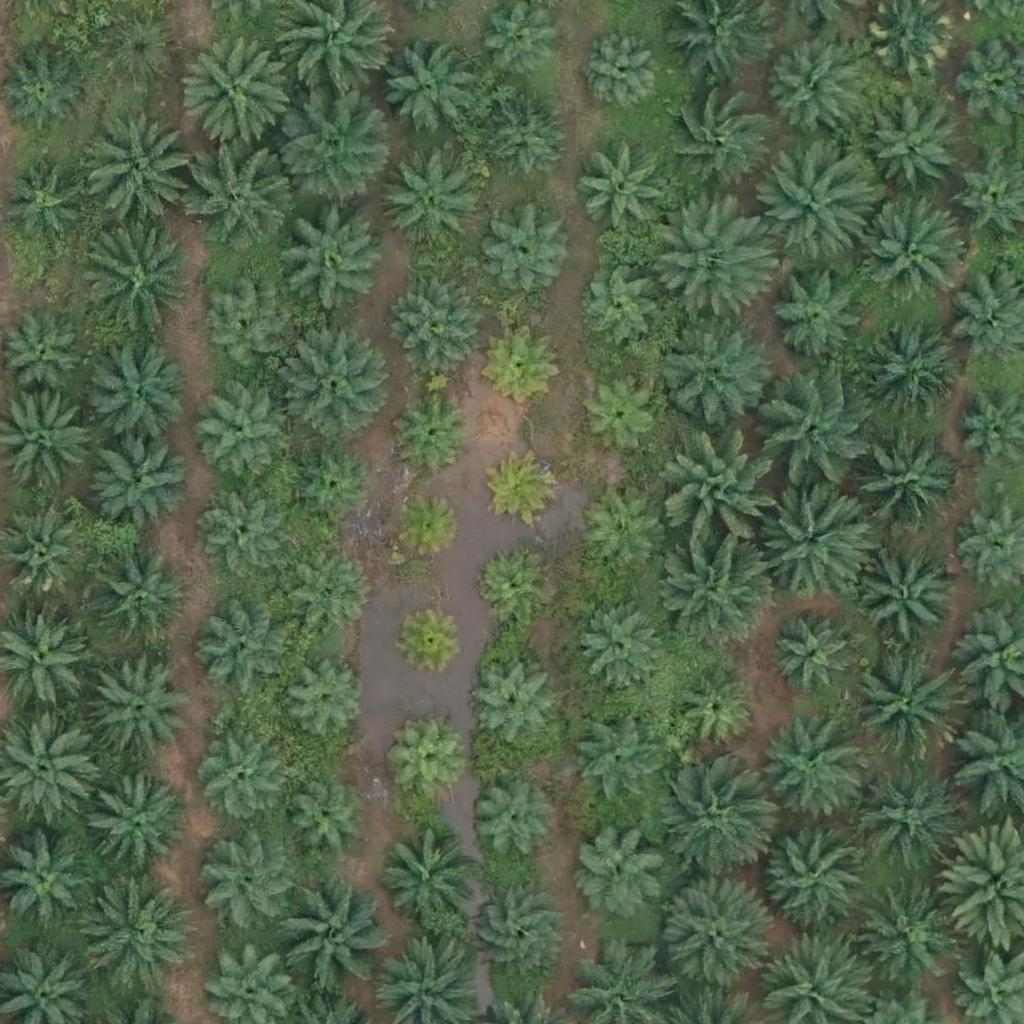Kelapa_Sawit: (846, 430, 959, 544), (80, 115, 193, 229), (847, 649, 960, 762), (851, 761, 964, 874), (758, 816, 871, 929), (655, 877, 768, 990), (78, 774, 191, 887), (79, 883, 192, 996), (763, 376, 876, 489), (662, 534, 775, 647), (275, 92, 388, 205), (276, 202, 389, 315), (277, 325, 390, 438), (186, 138, 299, 251), (182, 34, 295, 147), (76, 229, 189, 342), (762, 153, 874, 267), (668, 438, 780, 552), (751, 717, 863, 830), (653, 768, 765, 881), (270, 879, 382, 992), (859, 199, 971, 312), (758, 481, 870, 594), (655, 312, 767, 425), (655, 197, 767, 310), (659, 84, 771, 197), (855, 882, 955, 983), (376, 828, 476, 929), (200, 833, 300, 934), (89, 653, 189, 754), (858, 546, 958, 647), (864, 97, 964, 198), (763, 258, 863, 359), (574, 142, 674, 243), (378, 146, 478, 247), (85, 345, 185, 446), (90, 428, 190, 529), (89, 545, 189, 646), (196, 597, 296, 698), (570, 818, 670, 918), (468, 886, 568, 986), (859, 324, 959, 424), (758, 40, 858, 140), (377, 41, 477, 141), (576, 28, 664, 117), (670, 667, 758, 755), (465, 660, 553, 748), (191, 732, 279, 820), (287, 440, 375, 528), (287, 558, 375, 646), (770, 612, 858, 700), (90, 8, 178, 96), (573, 368, 661, 456), (578, 491, 666, 579), (197, 396, 285, 484), (198, 488, 286, 576), (570, 717, 657, 806), (467, 776, 554, 864), (283, 656, 370, 744), (280, 780, 367, 868), (481, 96, 568, 184), (576, 266, 663, 354), (577, 600, 664, 688), (391, 276, 478, 364), (478, 207, 565, 295), (203, 285, 290, 373), (472, 546, 547, 622), (389, 726, 464, 802), (394, 599, 469, 675), (487, 450, 562, 526), (397, 392, 472, 467), (389, 489, 464, 564), (487, 328, 562, 403)
